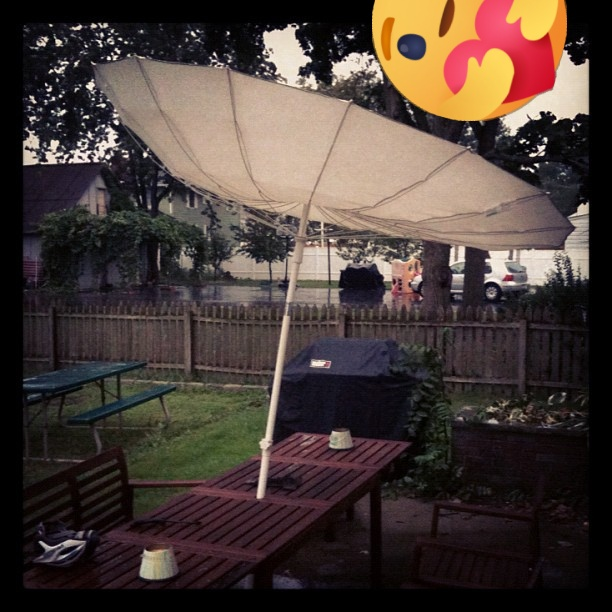care: (372, 0, 567, 121)
